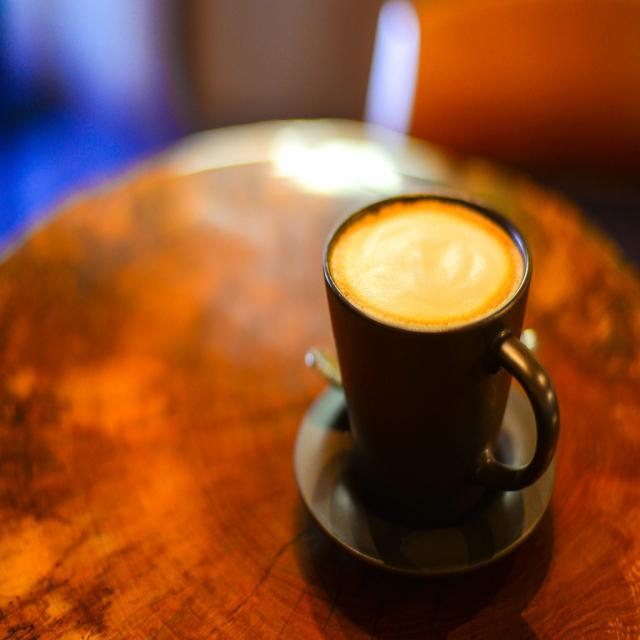Coffee: (332, 194, 528, 326)
Tea: (330, 200, 520, 334)
